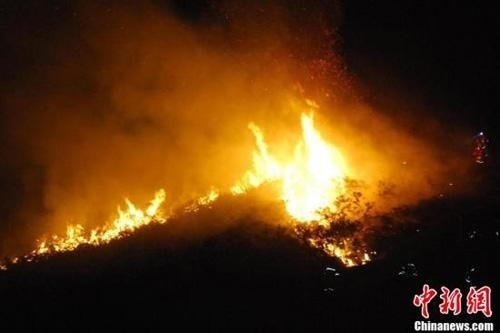fire: (212, 108, 363, 262), (14, 182, 170, 256)
